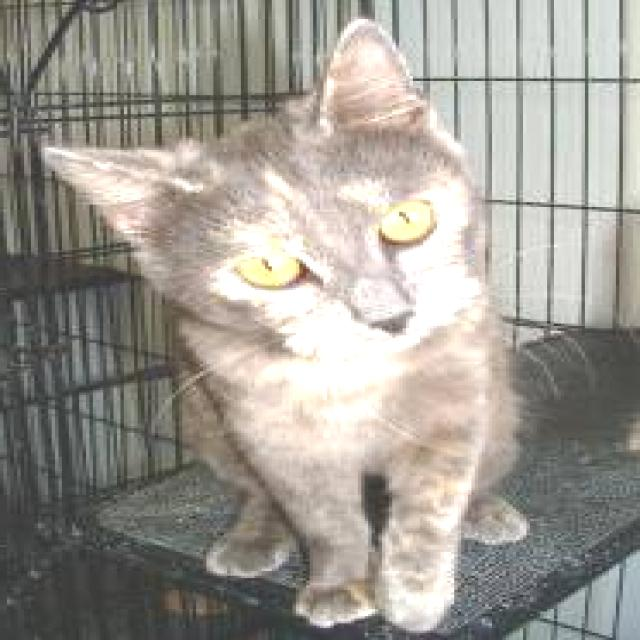Kucing: (53, 8, 537, 640)
